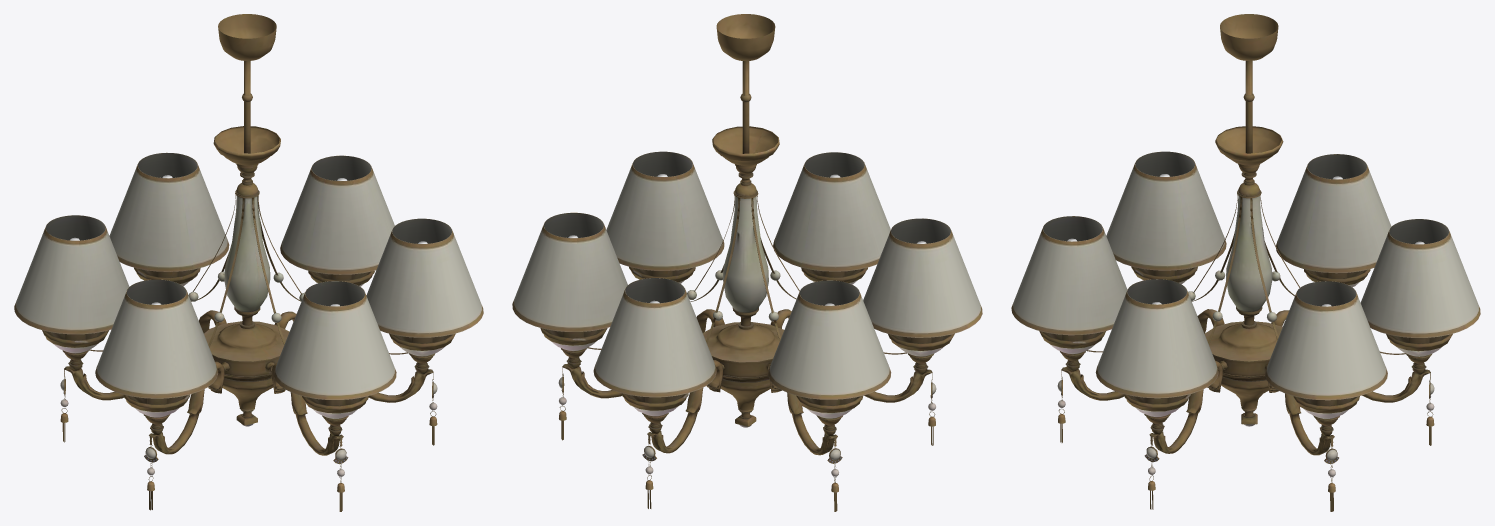
File: Chandelier_01.glb
3 renders of one model, left to right at view 1: azimuth 30°, elevation 25°; view 2: azimuth 150°, elevation 25°; view 3: azimuth 270°, elevation 25°, orthographic.
Parts seen in each view (by area): view 1: Chandelier_01; view 2: Chandelier_01; view 3: Chandelier_01.
Boxes of the visible parts, bbox=[...] form: Chandelier_01: bbox=[14, 14, 483, 511]; Chandelier_01: bbox=[512, 14, 982, 511]; Chandelier_01: bbox=[1011, 14, 1480, 511].
Size of the model in its own units: 0.7465 by 0.7982 by 0.8155.
2 materials, 1 textured.
